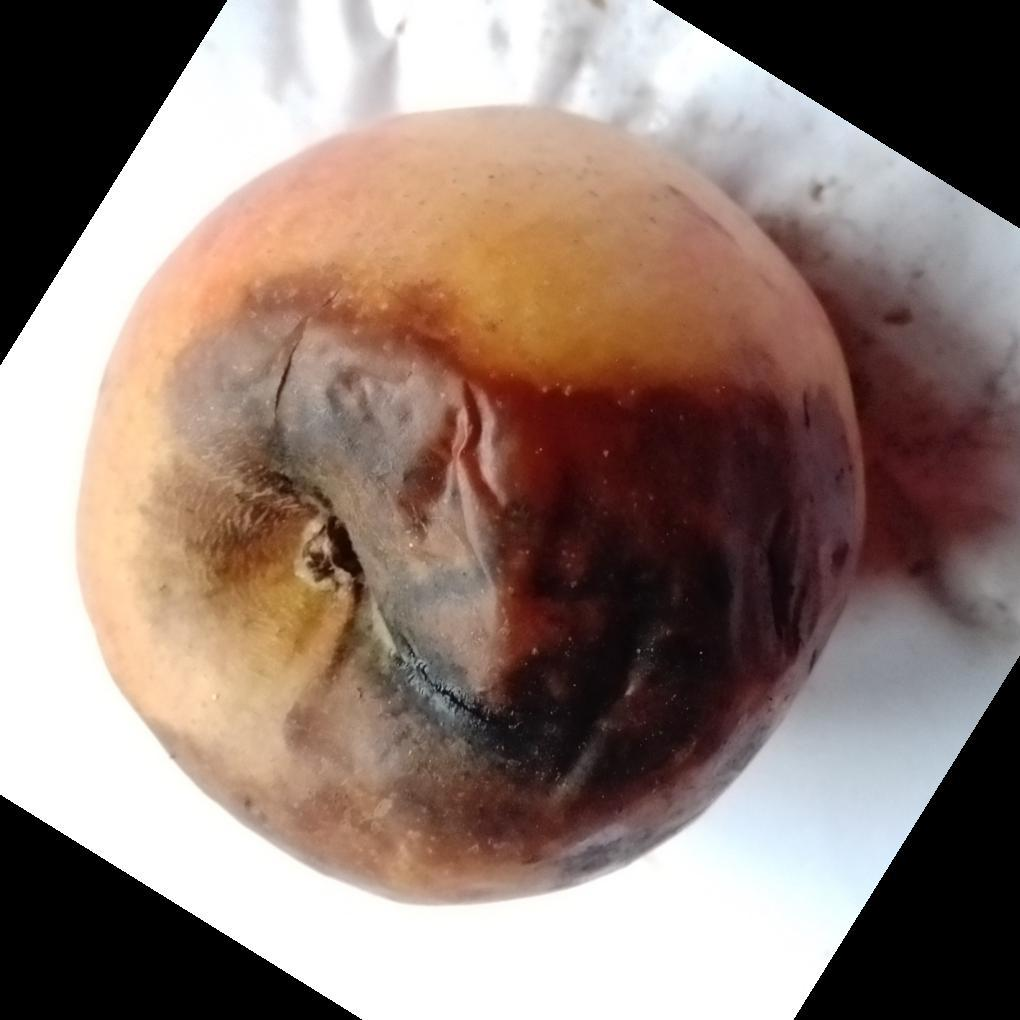FreshOrange: (71, 106, 871, 912)
